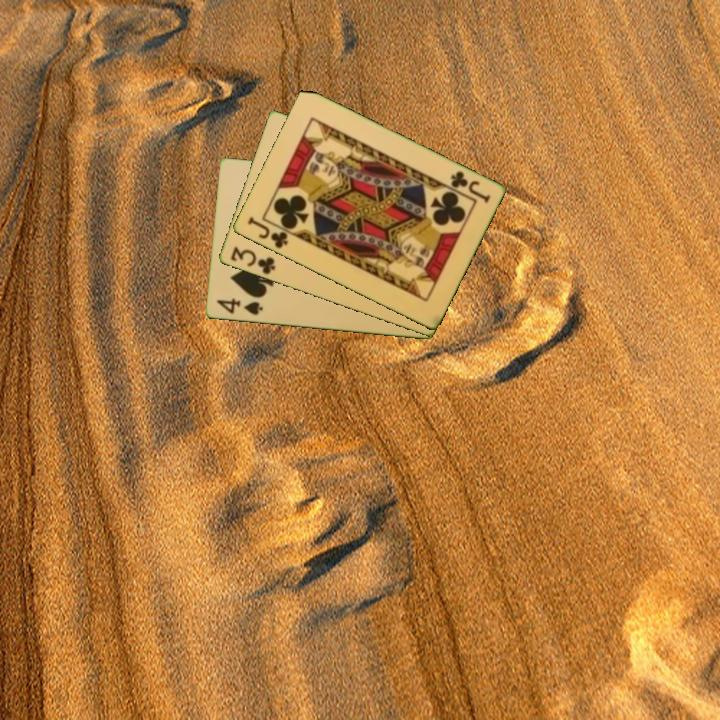3c: (227, 243, 278, 278)
4s: (213, 295, 266, 318)
Jc: (243, 213, 291, 252), (446, 168, 493, 206)
